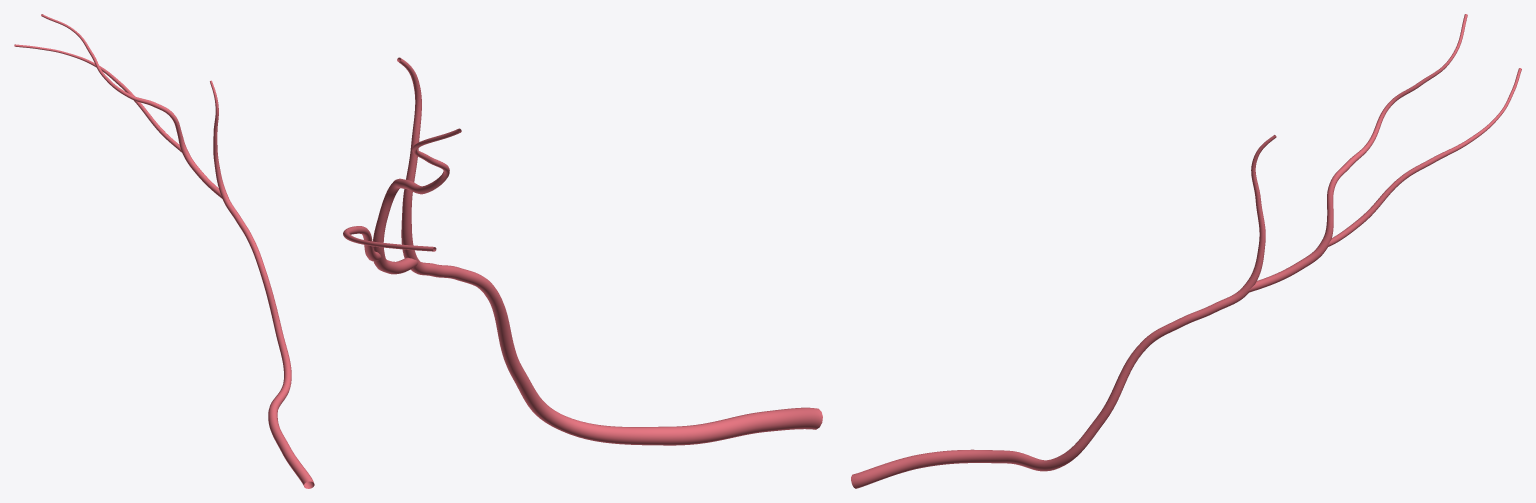
3 views of the same model, side by side, from view 1: azimuth 30°, elevation 25°; view 2: azimuth 150°, elevation 25°; view 3: azimuth 270°, elevation 25° (orthographic). The views are drawn at different scales.
Parts seen in each view (by area): view 1: ZA_0630442ad843313a; view 2: ZA_0630442ad843313a; view 3: ZA_0630442ad843313a.
Part boxes in pixels (left/top/right/bottom): ZA_0630442ad843313a: left=14, top=14, right=314, bottom=488; ZA_0630442ad843313a: left=343, top=57, right=822, bottom=445; ZA_0630442ad843313a: left=851, top=14, right=1521, bottom=488.
Size of the model in its own units: 0.0168 by 0.0451 by 0.0618.
